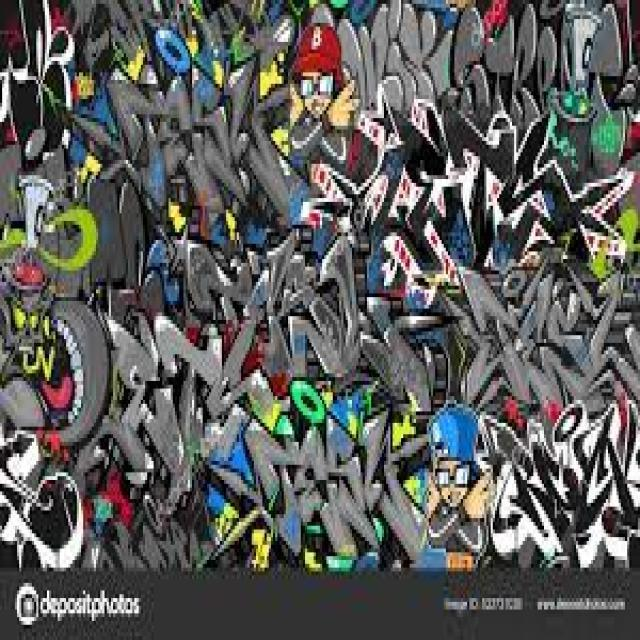-: (1, 0, 640, 570)
